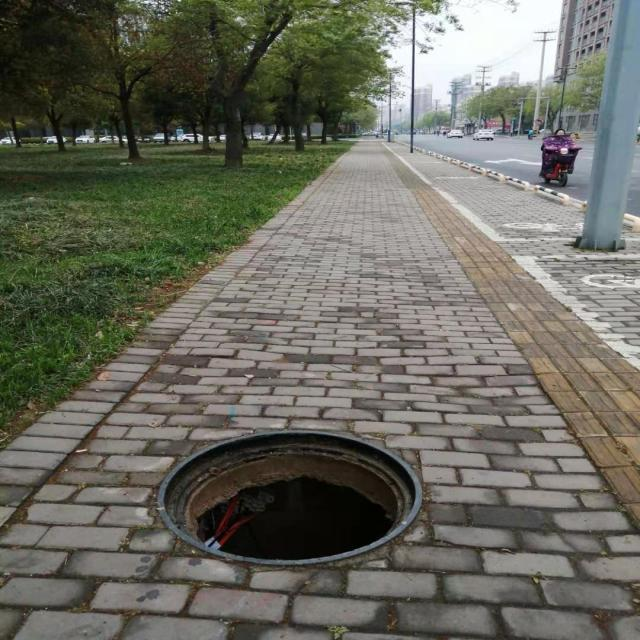Faulty: (154, 427, 422, 564)
